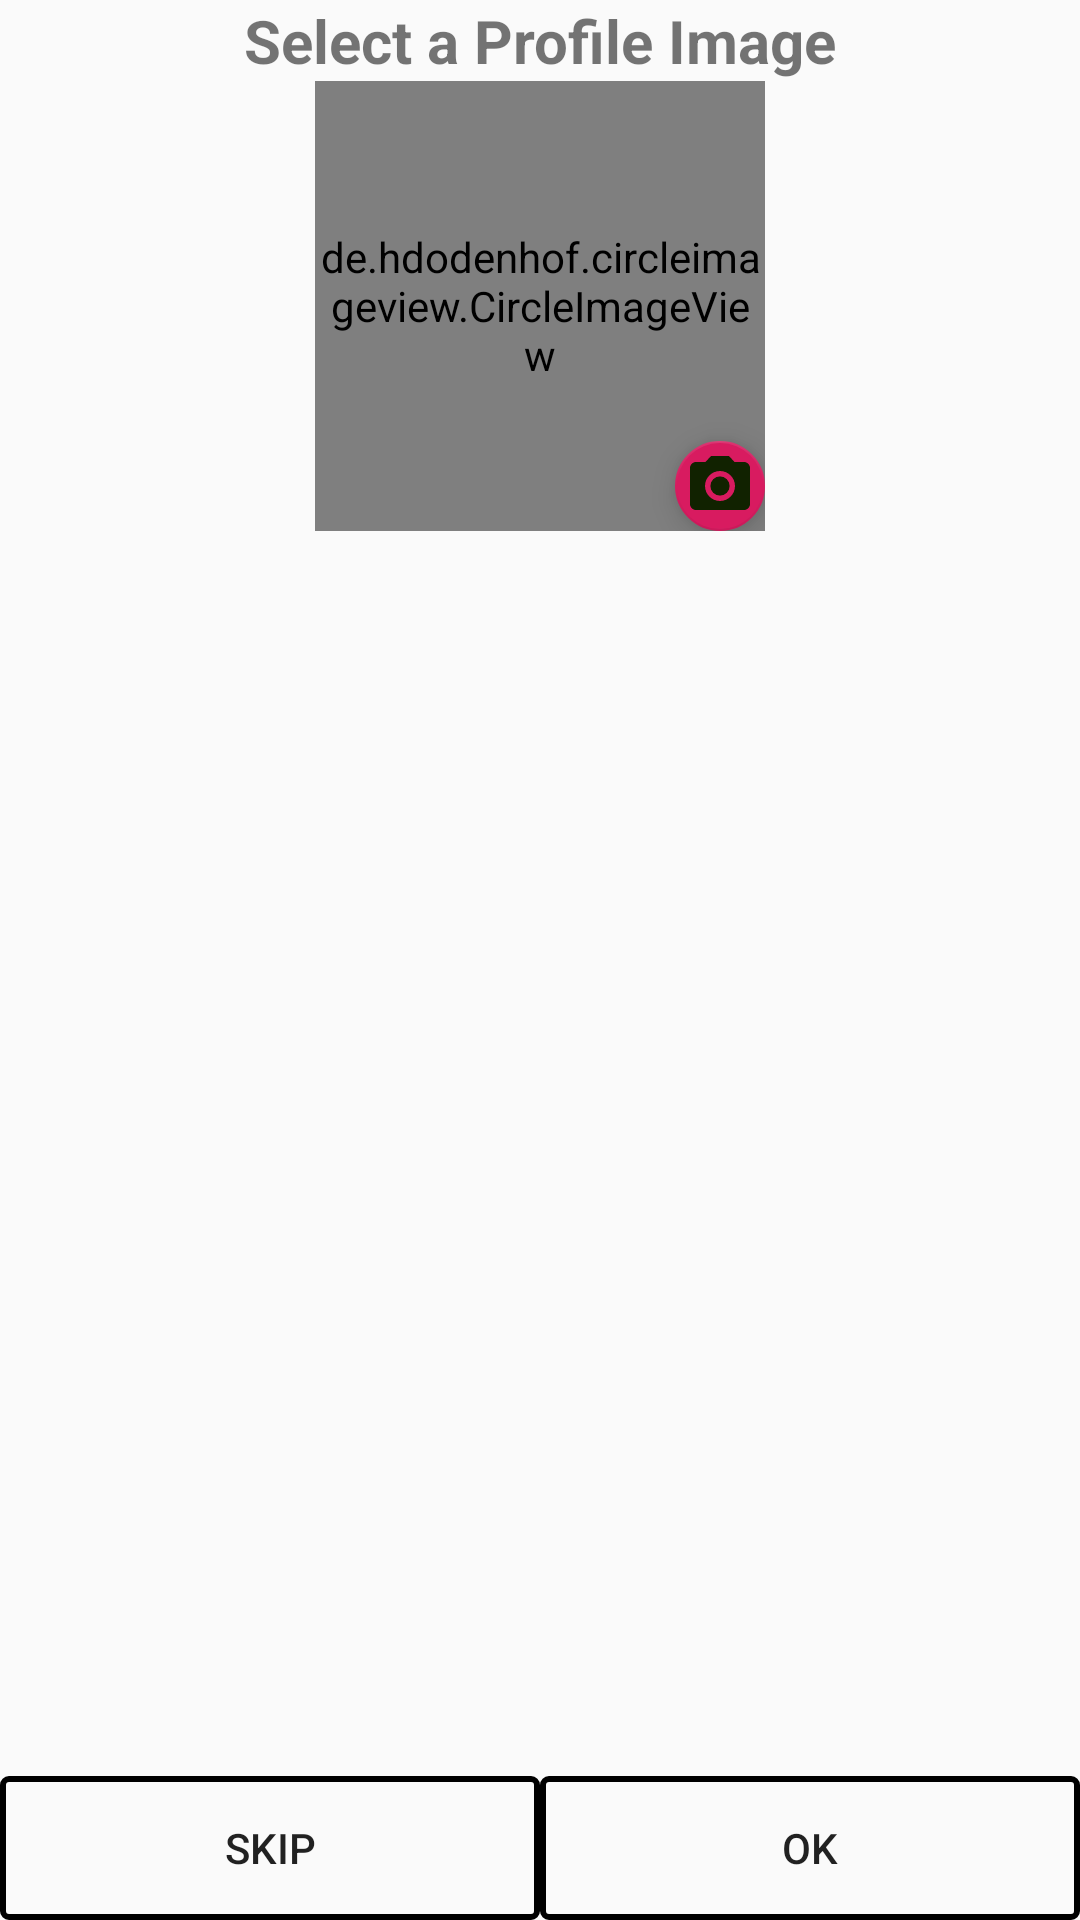

Point at icon controls on the screen. Image size 1080px x 1920px, points as (x=x, y=y).
camera: (x=720, y=486)
